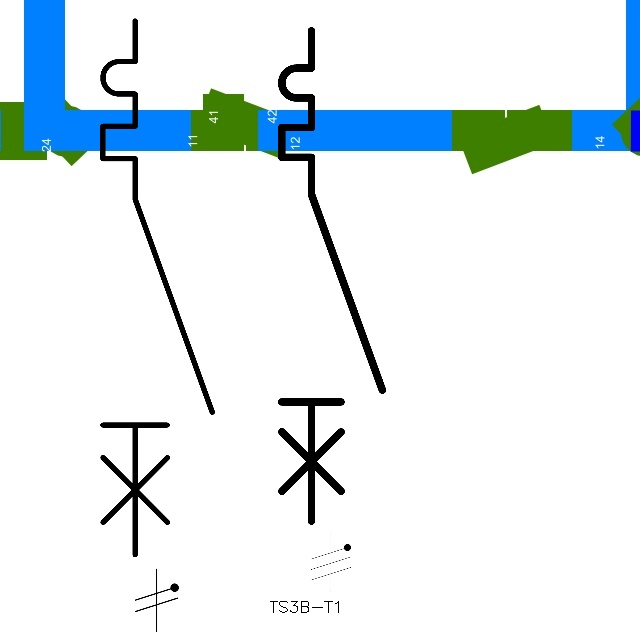interruptor_termomagnetico: (89, 7, 226, 568), (269, 18, 395, 533)
